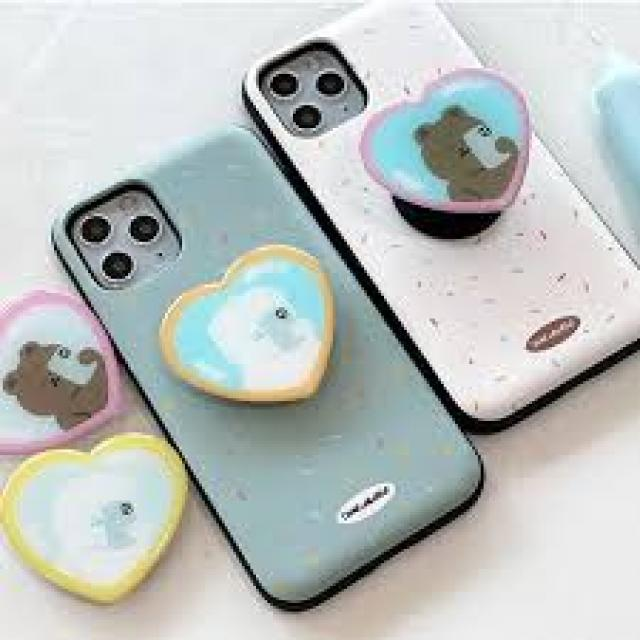Phone: (47, 117, 490, 608), (244, 0, 640, 437)
